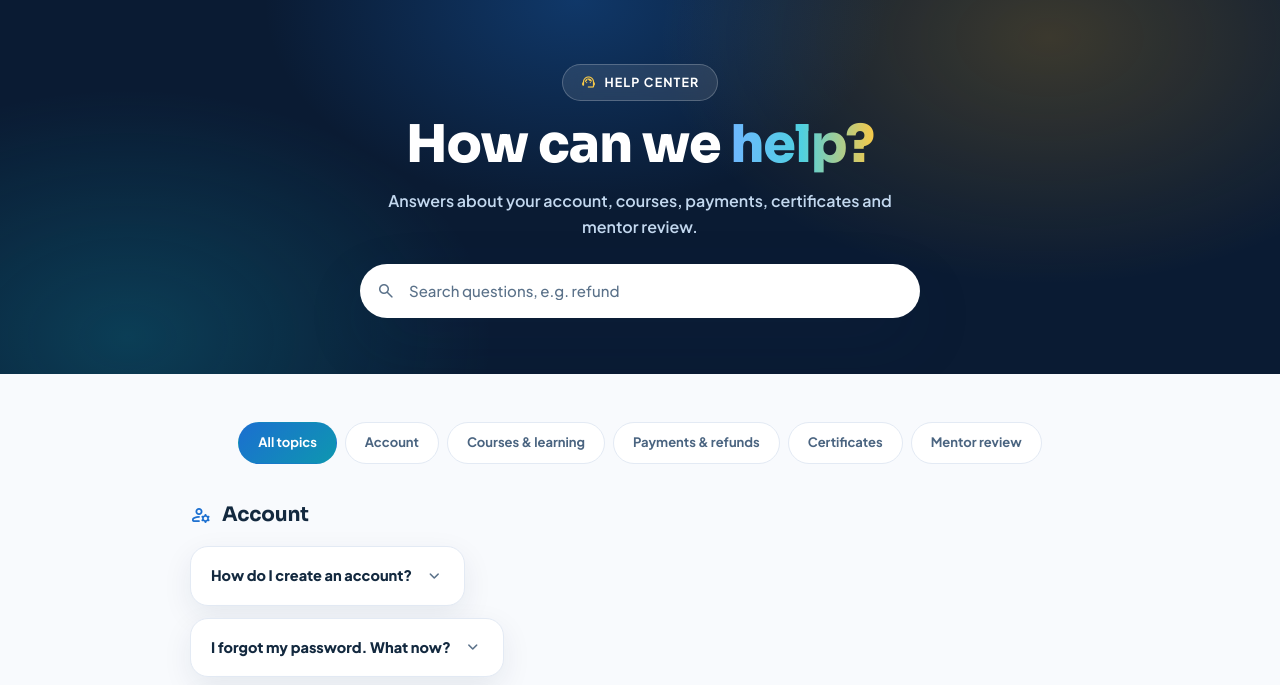
Test: <Help /> › filters questions as you type and shows an empty state
The image size is (1280, 685).
Type "bkash" into the search field named "Search help articles".
click(640, 291); type("bkash")  # box [360, 264, 920, 318]
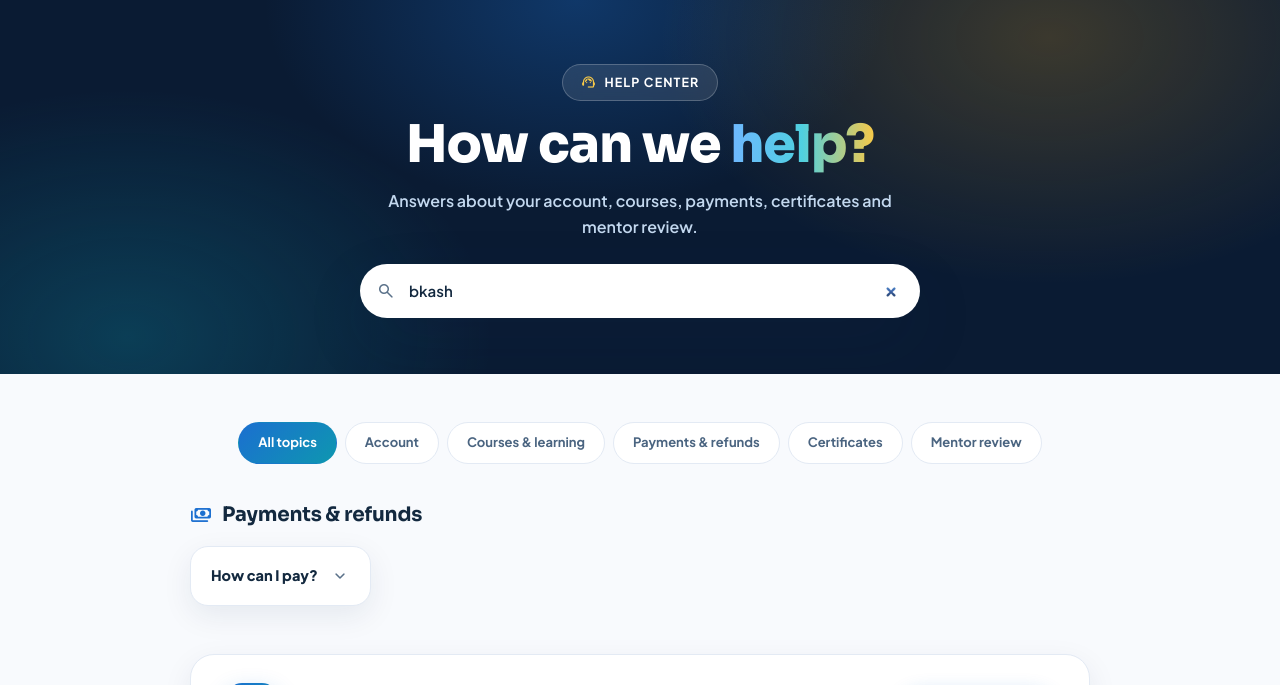
Expected: the button "How can I pay?" is shown, [191, 547, 370, 605]
Expected: the button "How do I create an account?" is gone
Replace the text in the search field named "Search help articles" with "zzzz-nothing" at (640, 291), box [360, 264, 920, 318]
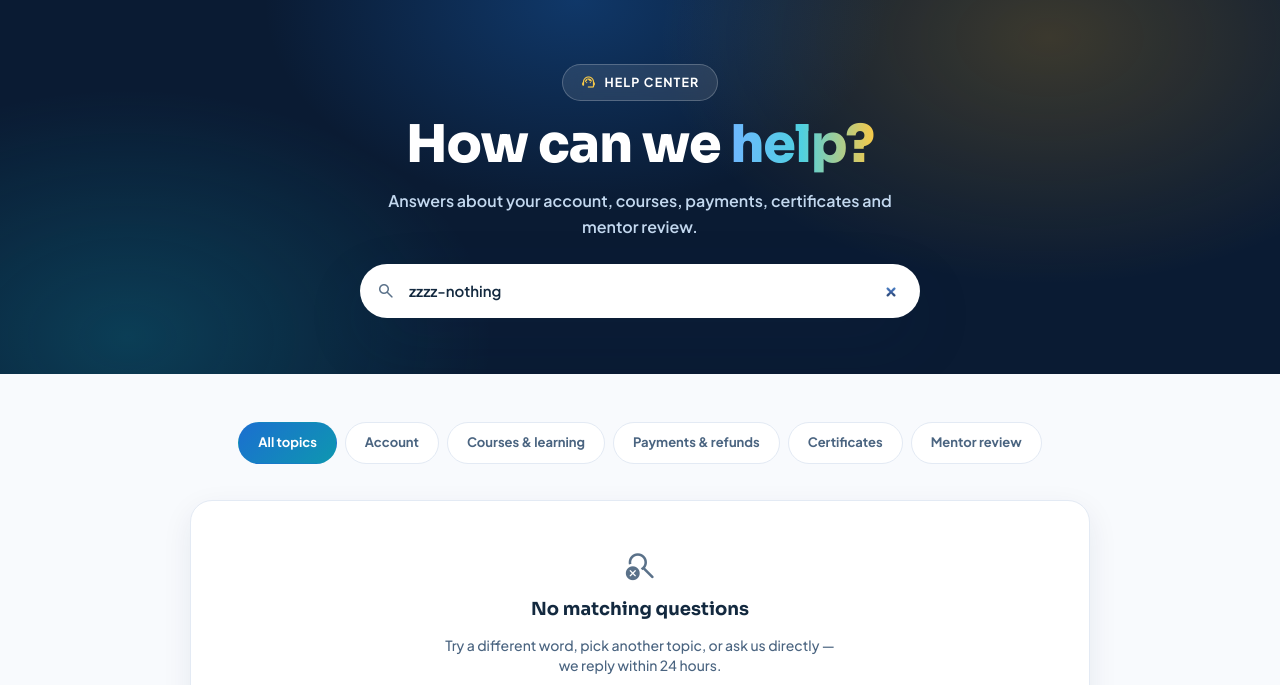
Expected: the heading "No matching questions" is shown, [531, 595, 749, 623]
